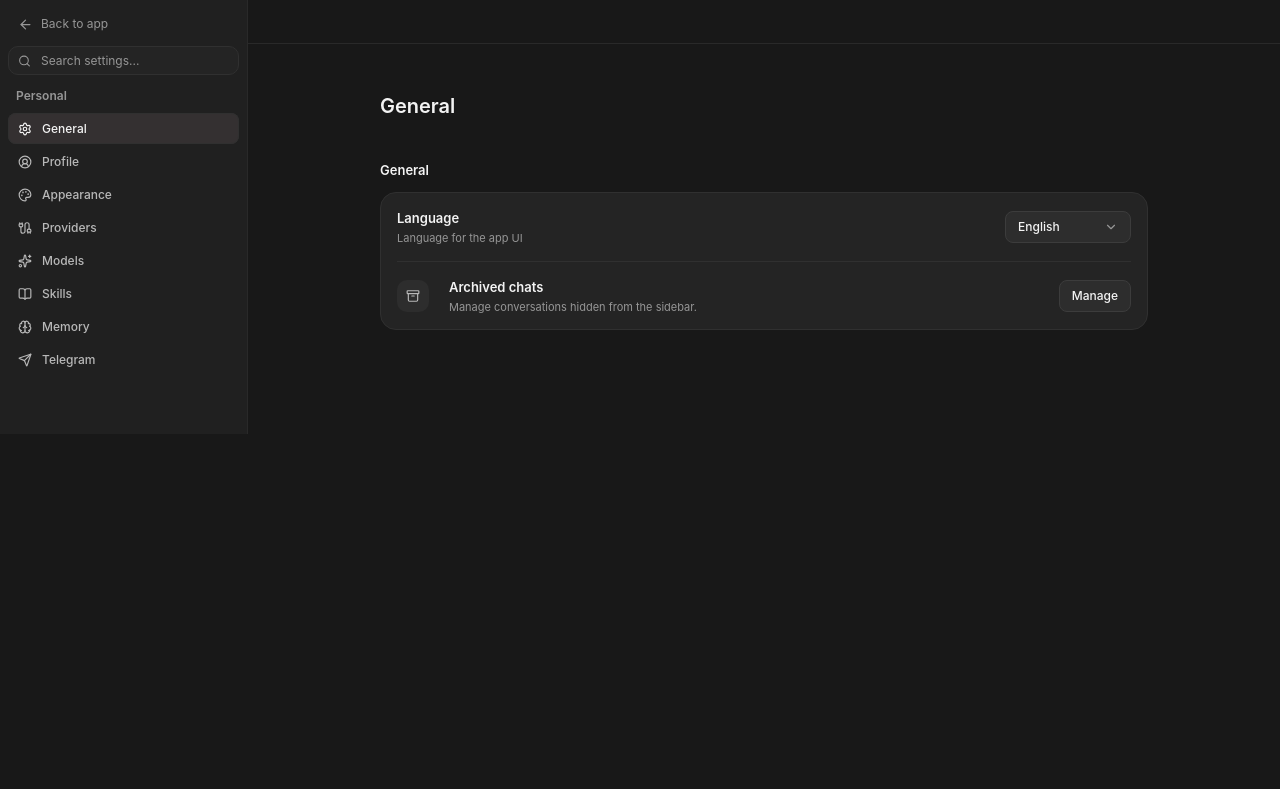
Test: SettingsPage › keeps General and adds local Profile and Appearance sections
This screenshot has width=1280, height=789.
Expected: the 1st heading "General" is shown, [380,94,455,118]
Click the button "Profile" at (124, 162), box [8,146,239,177]
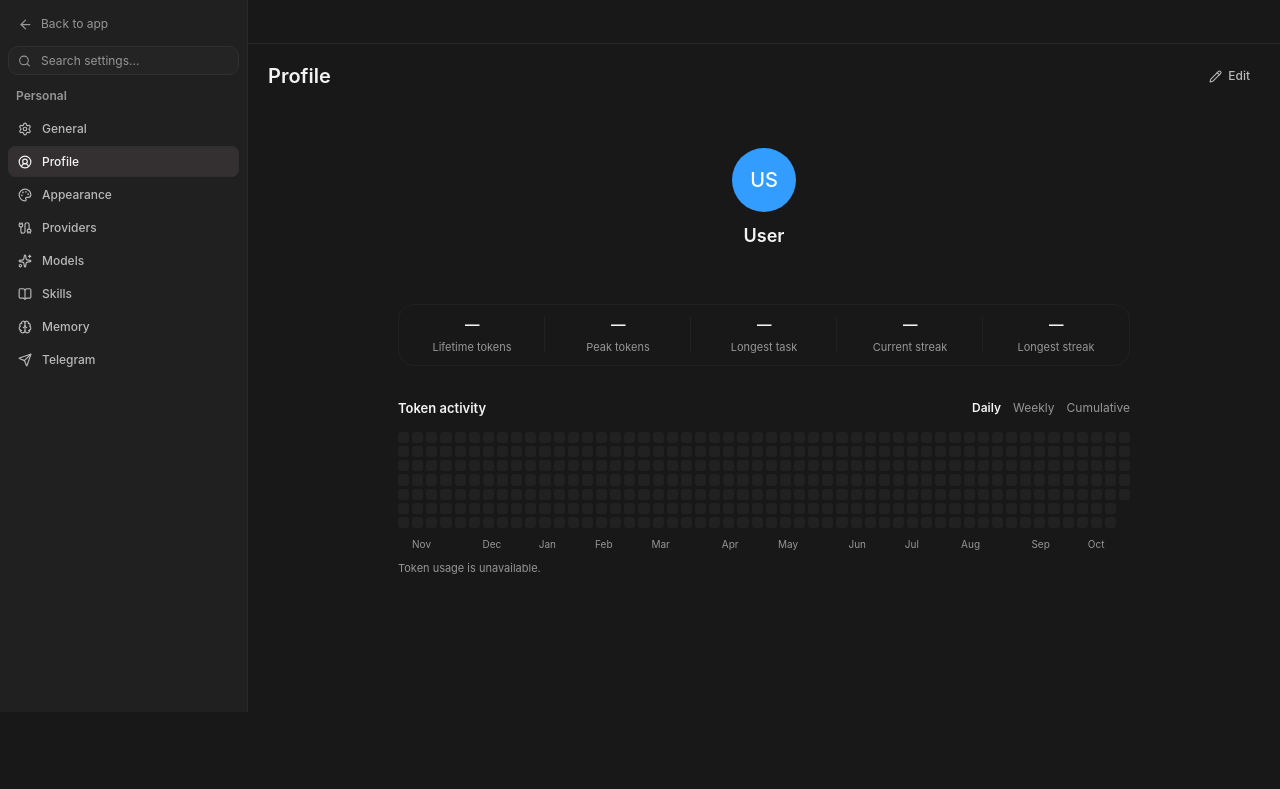
Now the heading "Profile" is shown, box [268,62,331,90]
Now the text "US" is shown, box [732,148,796,212]
Now the heading "User" is shown, box [744,224,784,248]
Click the button "Appearance" at (124, 194), box [8,179,239,210]
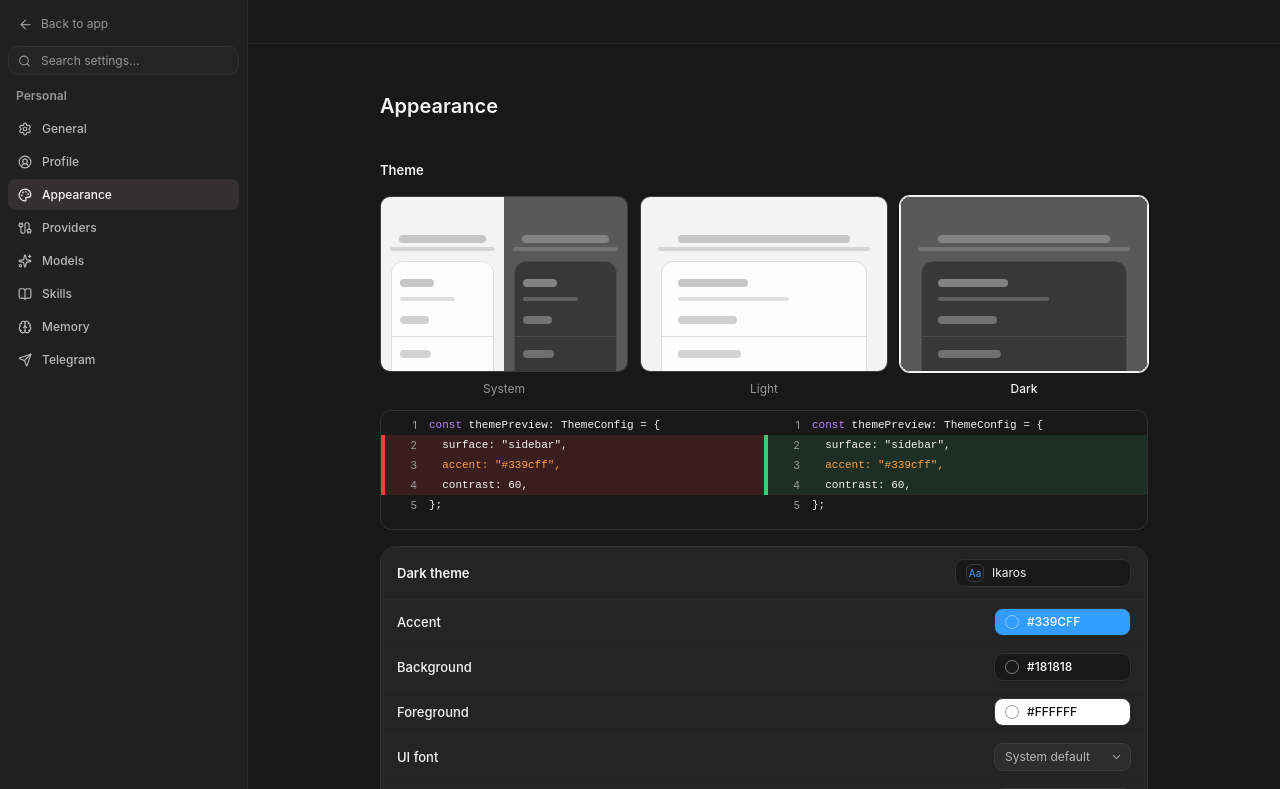
Now the heading "Appearance" is shown, box [380,94,498,118]
Now the element named "Theme" is shown, box [380,196,1148,398]
Now the radio button labelled "System" is shown, box [380,196,628,398]
